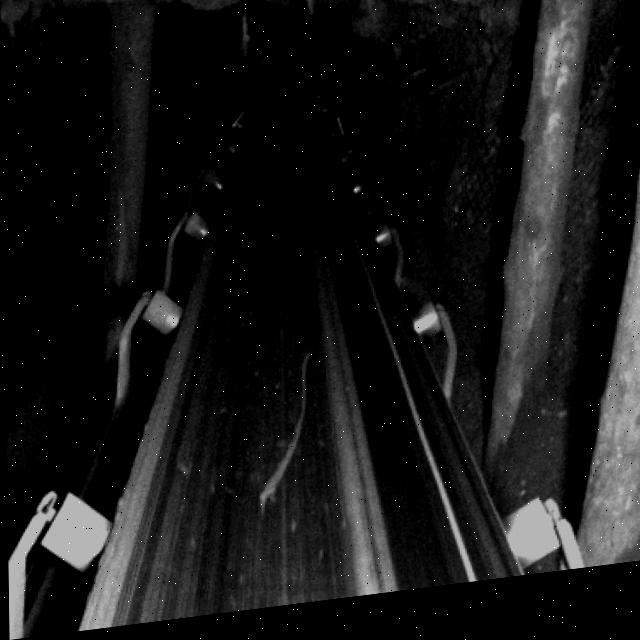bolt: (253, 357, 318, 510)
